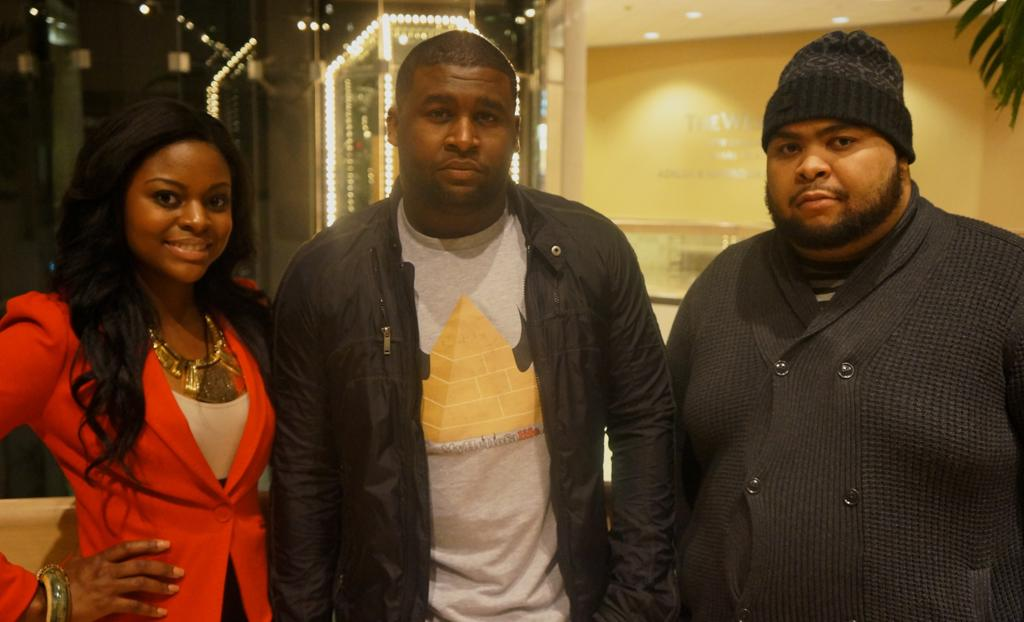face: (764, 94, 890, 254), (414, 56, 518, 200), (136, 144, 238, 272)
